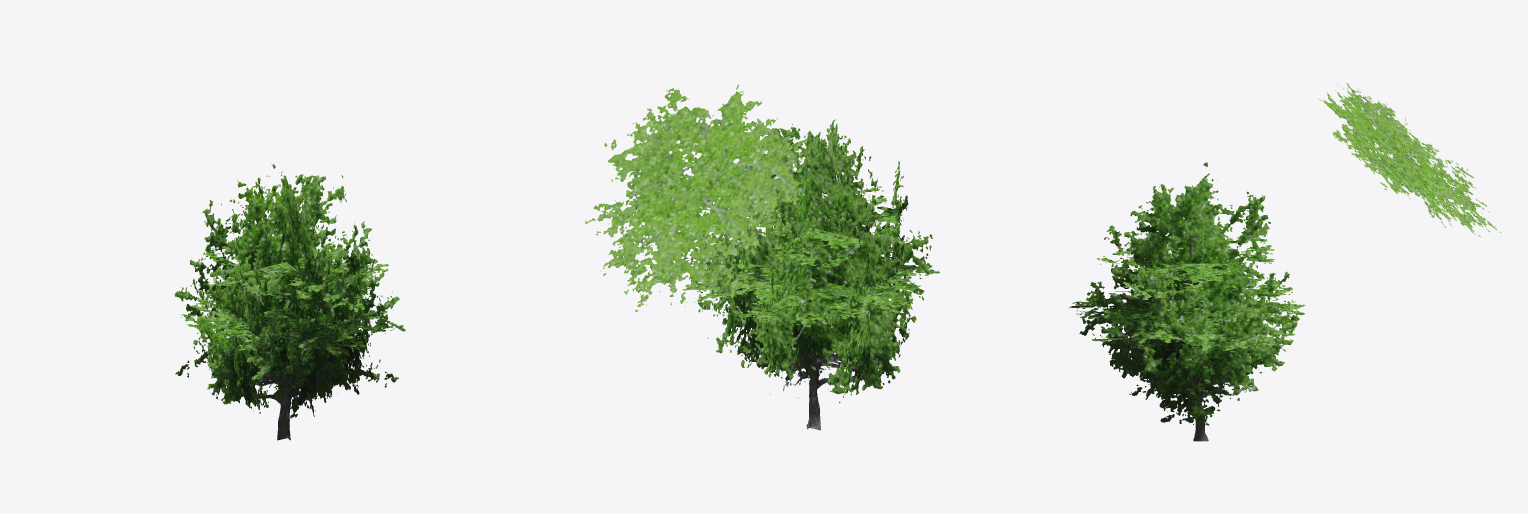
The model's file is tree-impo5B.glb.
3 renders of one model, left to right at view 1: azimuth 30°, elevation 25°; view 2: azimuth 150°, elevation 25°; view 3: azimuth 270°, elevation 25°, orthographic. The views are drawn at different scales.
Visible parts, largest first — view 1: Plane.002, Plane.008, Plane.003, Plane, Plane.012, Plane.006, Plane.010, Plane.011; view 2: shadow, Plane.001, Plane, Plane.003, Plane.007, Plane.012, Plane.006, Plane.011, Plane.009; view 3: Plane.004, Plane.013, shadow, Plane, Plane.006, Plane.014.
Boxes of the visible parts, x1,y1,x2,y2 form: Plane.002: [193, 174, 371, 440]; Plane.008: [241, 214, 399, 425]; Plane.003: [248, 172, 347, 440]; Plane: [179, 280, 405, 356]; Plane.012: [192, 199, 269, 413]; Plane.006: [205, 244, 388, 302]; Plane.010: [174, 163, 332, 377]; Plane.011: [313, 175, 388, 394]; shadow: [585, 84, 808, 312]; Plane.001: [711, 127, 916, 430]; Plane: [685, 225, 939, 326]; Plane.003: [756, 119, 875, 429]; Plane.007: [689, 183, 858, 403]; Plane.012: [823, 156, 910, 395]; Plane.006: [759, 184, 907, 267]; Plane.011: [702, 122, 792, 367]; Plane.009: [792, 124, 932, 331]; Plane.004: [1079, 178, 1299, 441]; Plane.013: [1101, 212, 1289, 425]; shadow: [1318, 82, 1500, 237]; Plane: [1069, 269, 1305, 352]; Plane.006: [1097, 236, 1274, 299]; Plane.014: [1138, 162, 1289, 357].
Bounding box in the file's own units: 9.86 × 14.59 × 16.4.
Materials: 1 (1 with a texture image).
